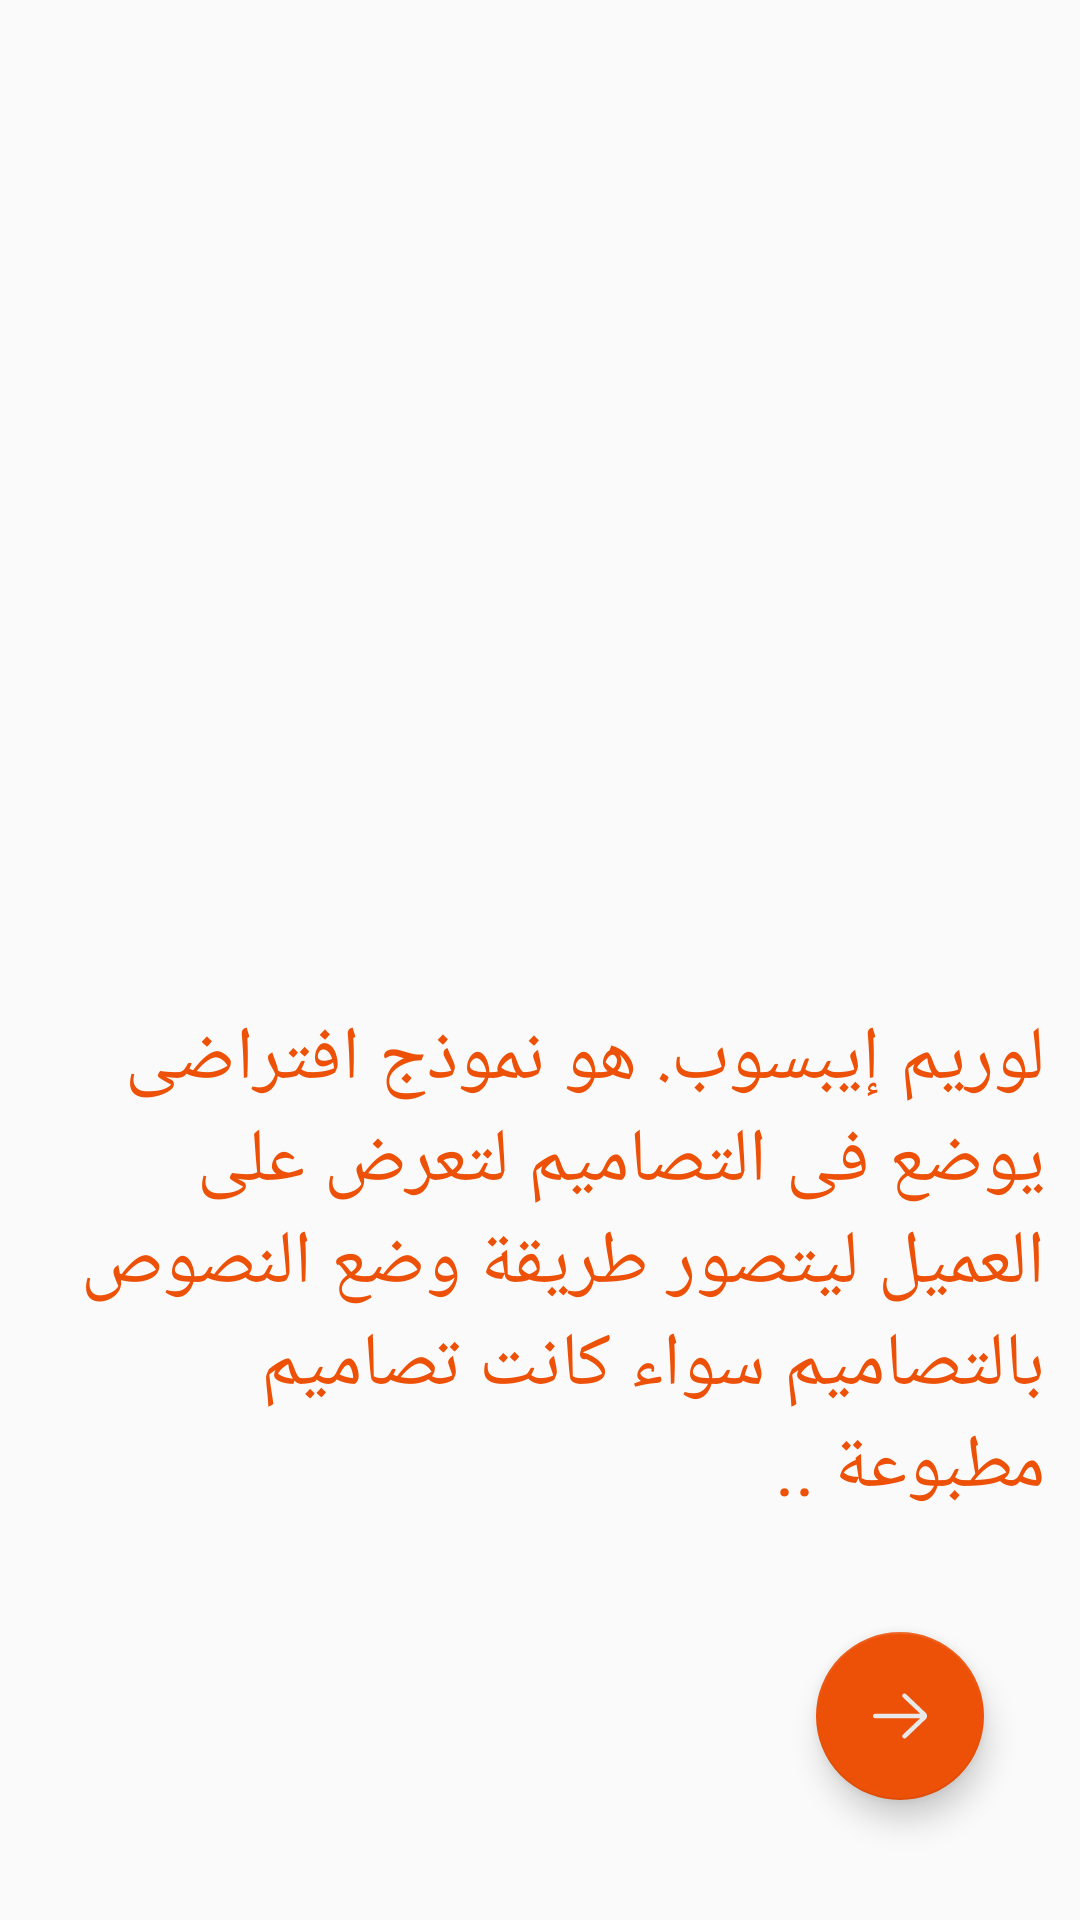

Icon click points for this 1080 x 1920 phone screenshot, format (x,y):
next arrow: (900,1716)
